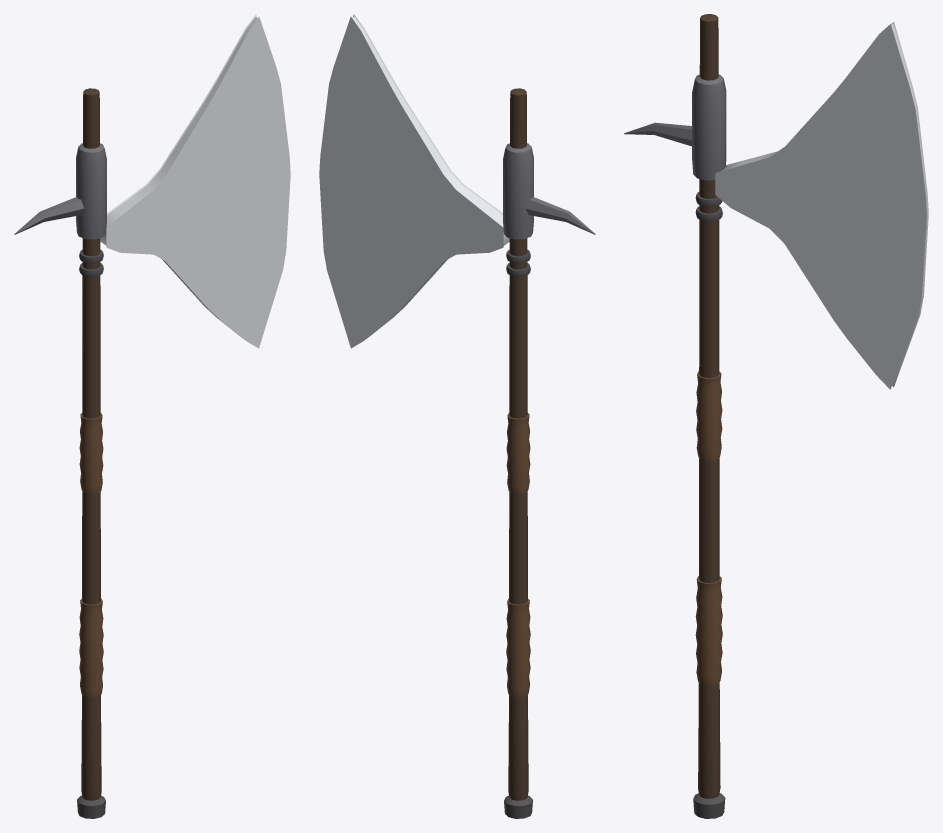
File: executioner_moon.glb
The picture shows the model from 3 angles, left to right: view 1: azimuth 30°, elevation 25°; view 2: azimuth 150°, elevation 25°; view 3: azimuth 330°, elevation 25°; orthographic projection. The views are drawn at different scales.
Visible parts, largest first — view 1: executioner_moon; view 2: executioner_moon; view 3: executioner_moon.
Part boxes in pixels (x1,y1,x2,y2): executioner_moon: (14, 14, 290, 818); executioner_moon: (319, 14, 595, 818); executioner_moon: (624, 14, 928, 818).
Size of the model in its own units: 0.6514 by 1.72 by 0.0609.
